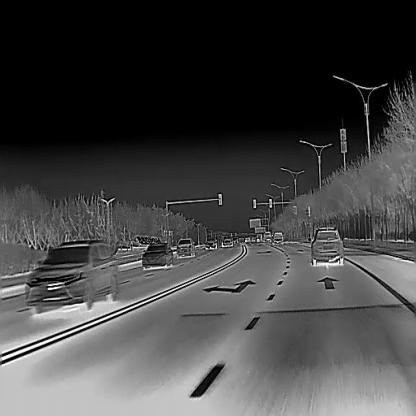car: (22, 239, 120, 312), (308, 226, 342, 265), (140, 242, 174, 267), (175, 236, 194, 258), (270, 230, 284, 245), (220, 235, 233, 247), (204, 238, 217, 249), (262, 231, 271, 242)
